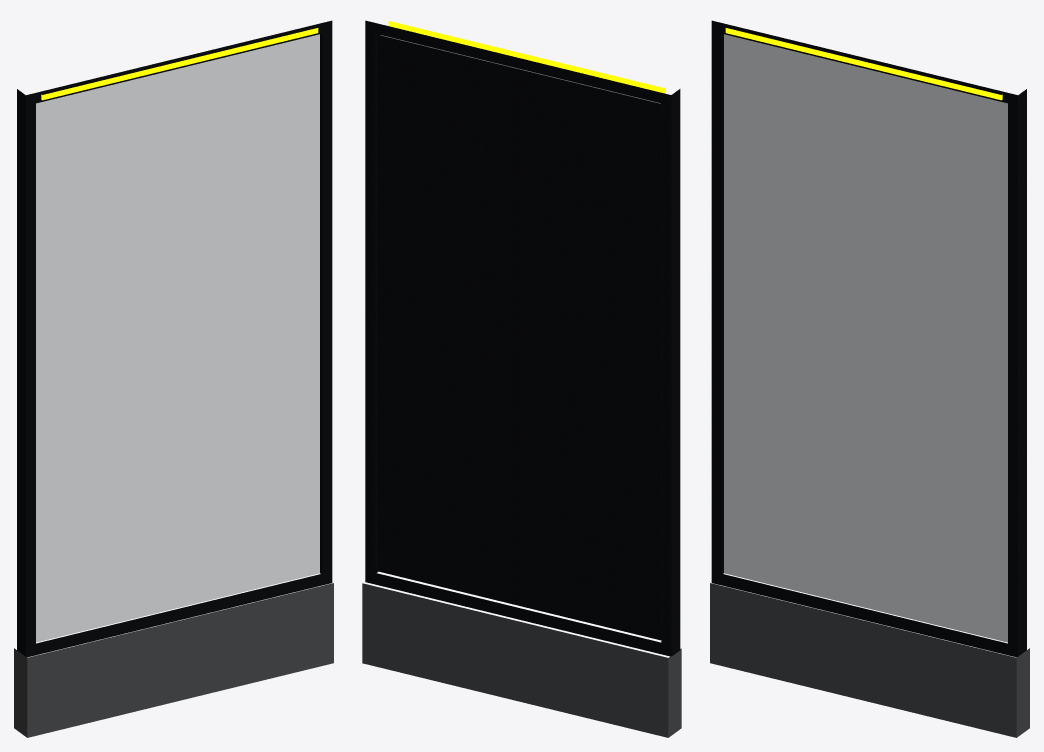
File: tt_gym_mirror.glb
3 views of the same model, side by side, from view 1: azimuth 30°, elevation 25°; view 2: azimuth 150°, elevation 25°; view 3: azimuth 330°, elevation 25° (orthographic).
Visible parts, largest first — view 1: Mirror_Sheet, Kick_Plinth, Frame, Crest_LED; view 2: Backer_Plate, Kick_Plinth, Frame, Crest_LED; view 3: Mirror_Sheet, Kick_Plinth, Frame, Crest_LED.
Boxes of the visible parts, bbox=[...] form: Mirror_Sheet: bbox=[36, 34, 319, 642]; Kick_Plinth: bbox=[14, 583, 333, 737]; Frame: bbox=[17, 20, 332, 657]; Crest_LED: bbox=[41, 28, 318, 100]; Backer_Plate: bbox=[377, 34, 661, 640]; Kick_Plinth: bbox=[362, 583, 681, 737]; Frame: bbox=[365, 20, 680, 656]; Crest_LED: bbox=[388, 21, 665, 93]; Mirror_Sheet: bbox=[724, 34, 1007, 642]; Kick_Plinth: bbox=[710, 583, 1029, 737]; Frame: bbox=[711, 20, 1026, 657]; Crest_LED: bbox=[725, 28, 1002, 100].
Size of what is drawn, in the model's own units: 1.2 by 2.4 by 0.09.
4 materials, 1 textured.
